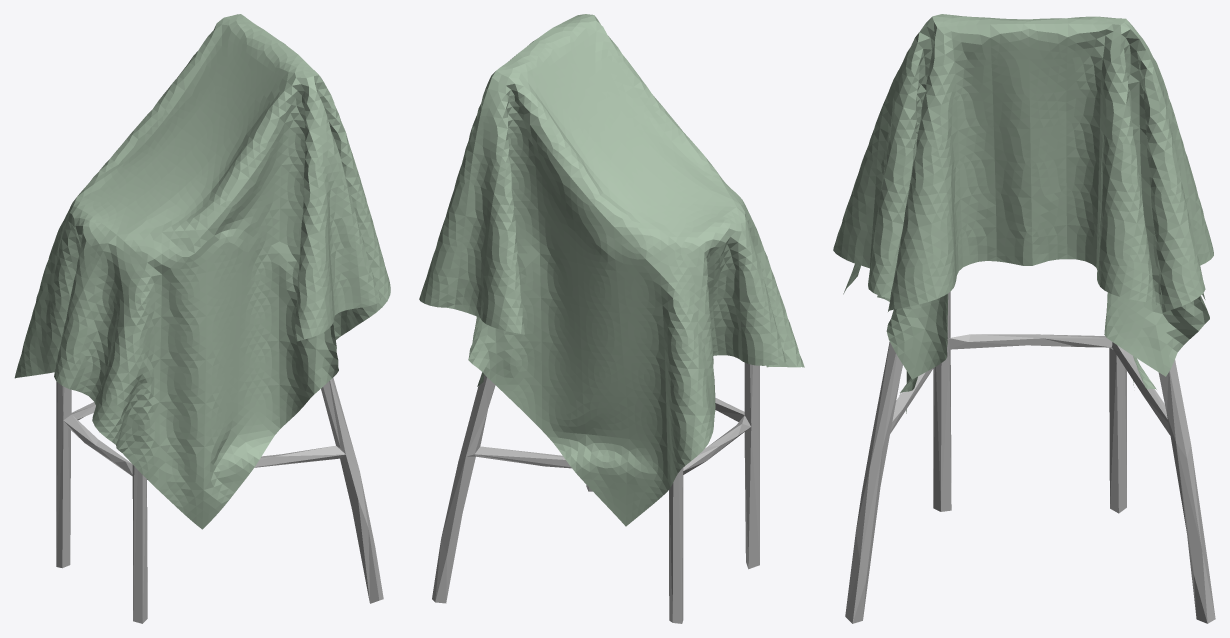
Rendered from level_2.glb.
3 views of the same model, side by side, from view 1: azimuth 30°, elevation 25°; view 2: azimuth 150°, elevation 25°; view 3: azimuth 270°, elevation 25° (orthographic). The views are drawn at different scales.
Parts seen in each view (by area): view 1: world, object.obj; view 2: world, object.obj; view 3: world, object.obj.
Boxes of the visible parts, x1,y1,x2,y2 form: world: [14, 14, 390, 529]; object.obj: [56, 378, 383, 623]; world: [419, 14, 804, 526]; object.obj: [432, 363, 759, 623]; world: [833, 14, 1213, 413]; object.obj: [845, 292, 1215, 623].
Size of the model in its own units: 0.2575 by 0.4248 by 0.2505.
